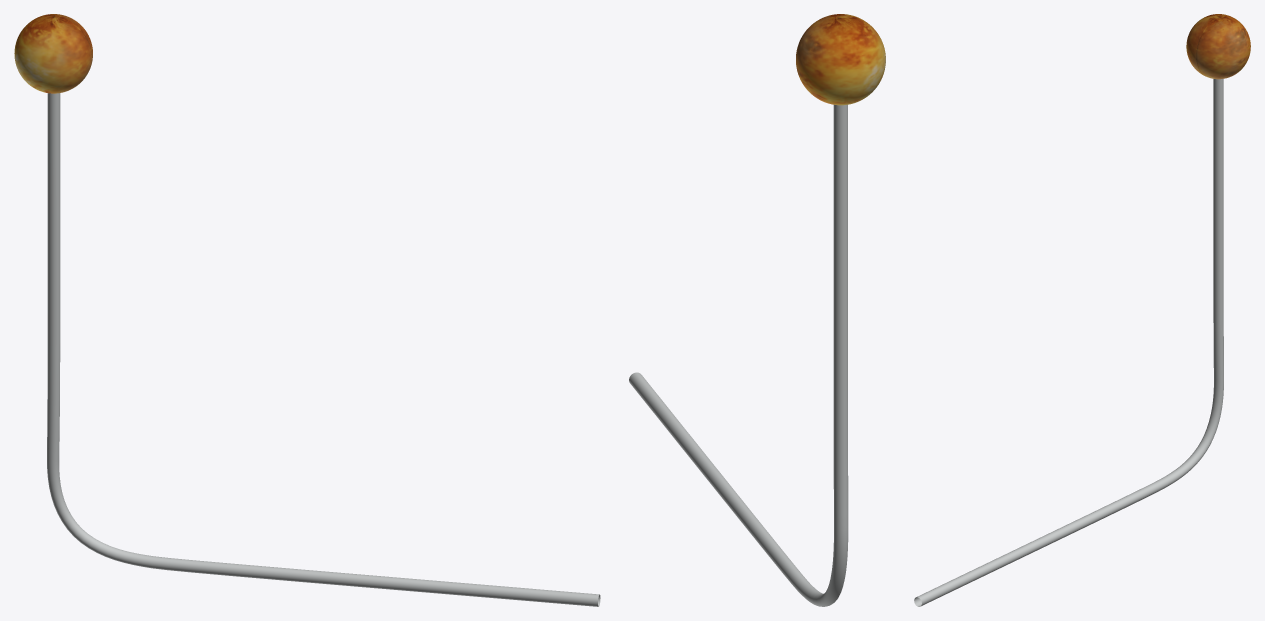
The model's file is orrery_planeta7.glb.
3 renders of one model, left to right at view 1: azimuth 30°, elevation 25°; view 2: azimuth 150°, elevation 25°; view 3: azimuth 270°, elevation 25°, orthographic. The views are drawn at different scales.
Visible parts, largest first — view 1: polySurface8_modelUniverseMaterial_0; view 2: polySurface8_modelUniverseMaterial_0; view 3: polySurface8_modelUniverseMaterial_0.
Boxes of the visible parts, box(x1,y1,x2,y2) form: polySurface8_modelUniverseMaterial_0: box(14, 14, 600, 606); polySurface8_modelUniverseMaterial_0: box(629, 14, 885, 606); polySurface8_modelUniverseMaterial_0: box(914, 14, 1250, 606).
Size of the model in its own units: 0.1091 by 0.1417 by 0.0971.
Materials: 1 (1 with a texture image).
